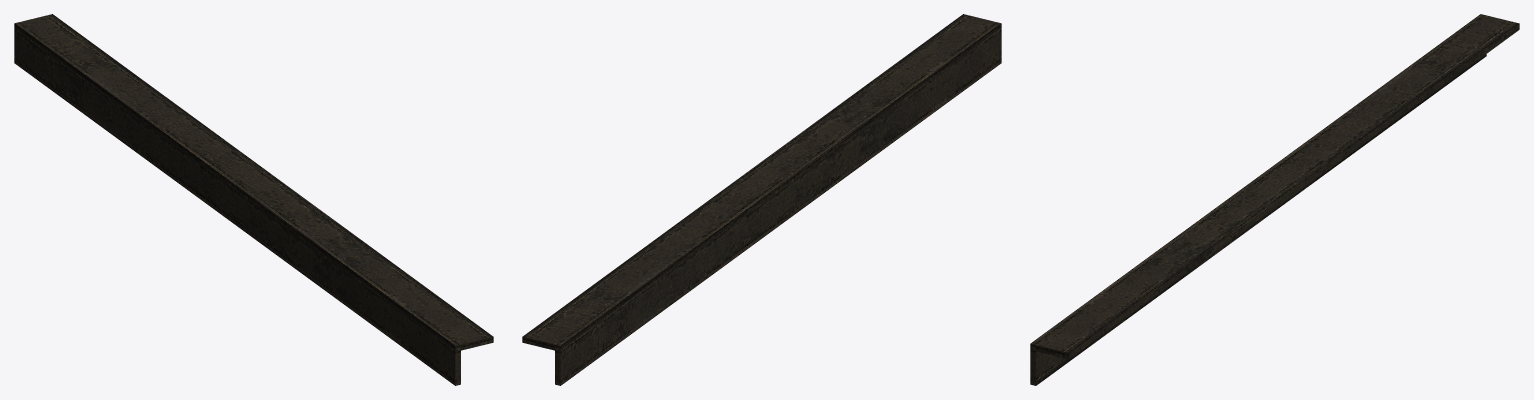
File: seam_hl_2.glb
3 renders of one model, left to right at view 1: azimuth 30°, elevation 25°; view 2: azimuth 150°, elevation 25°; view 3: azimuth 330°, elevation 25°, orthographic. The views are drawn at different scales.
Parts seen in each view (by area): view 1: seam_hl_2; view 2: seam_hl_2; view 3: seam_hl_2.
Part boxes in pixels (x1,y1,x2,y2): seam_hl_2: [14, 14, 493, 385]; seam_hl_2: [522, 14, 1001, 385]; seam_hl_2: [1030, 14, 1519, 385].
Bounding box in the file's own units: 0.2 × 0.2 × 4.
Materials: 1 (1 with a texture image).
